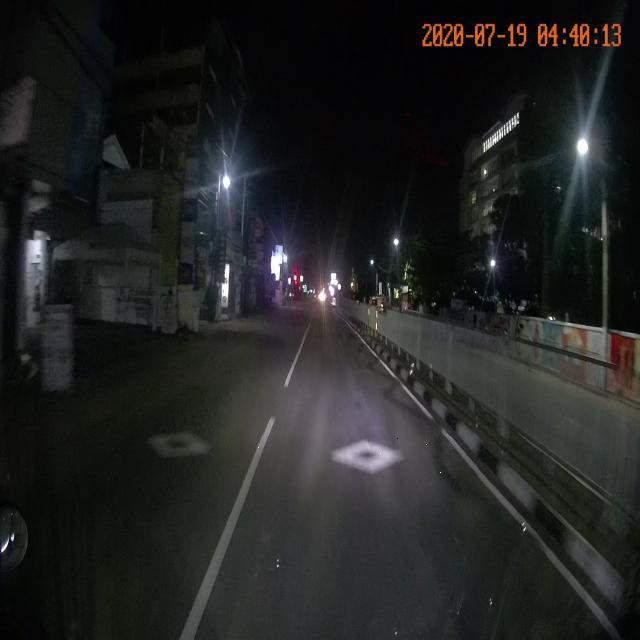diamond: (240, 437, 478, 483)
